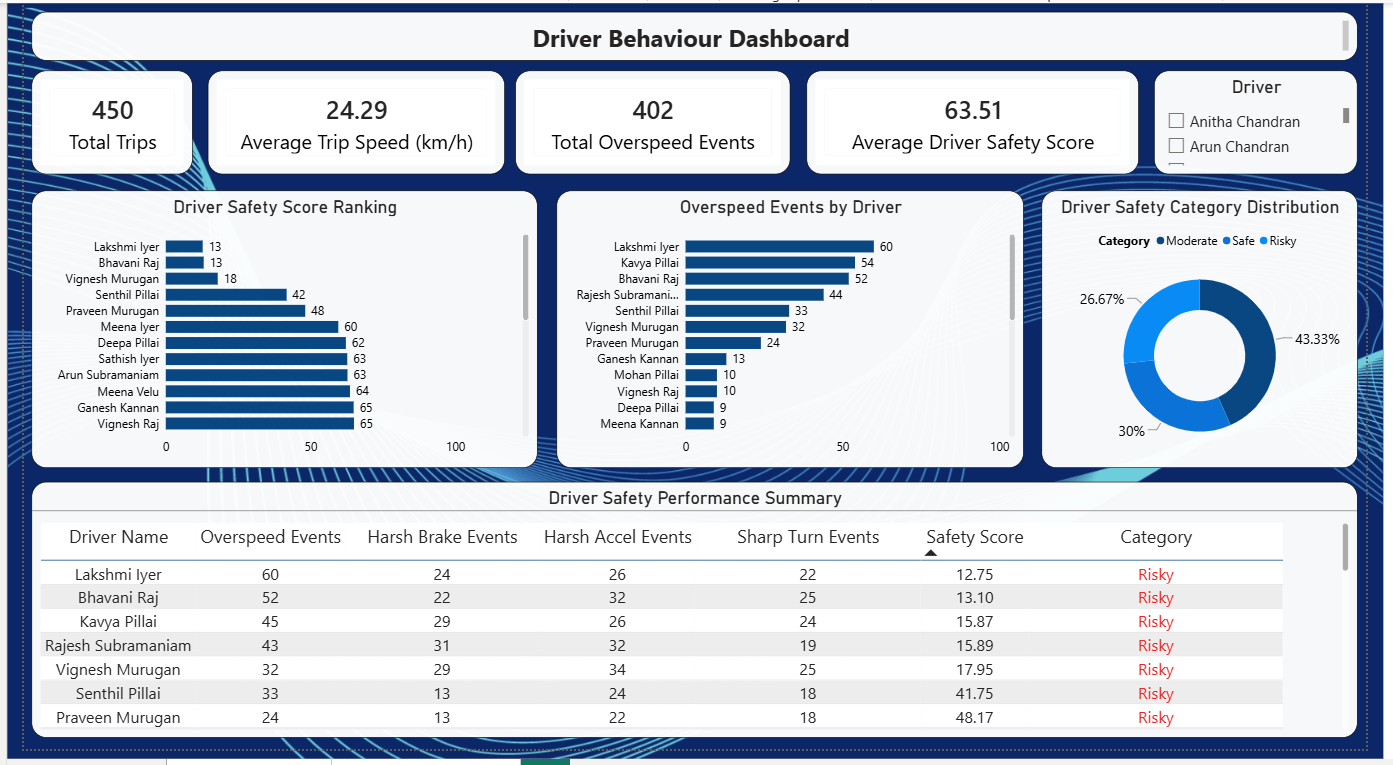

Layout of this report page (visuals, bound fields, positions):
{"tool":"powerbi","page":{"name":"Driver Behaviour","canvas":[1800,1000],"ordinal":0},"visuals":[{"type":"cardVisual","title":"Total Trips","fields":{"Data":["Trips.Total Trips"]},"box":[10.1,90.5,216.2,139.1],"z":0},{"type":"cardVisual","fields":{"Data":["Driver_Summary_Final.Average Driver Risk"]},"box":[1048.9,90.5,445.7,139.1],"z":1000},{"type":"cardVisual","fields":{"Data":["Telemetry.Overspeed Events"]},"box":[658.5,90.5,368.6,139.1],"z":2000},{"type":"cardVisual","fields":{"Data":["Trips.Average Speed"]},"box":[246.3,90.5,398.8,139.1],"z":3000},{"type":"clusteredBarChart","title":"Driver Safety Score Ranking","fields":{"Y":["Sum(Driver_Summary_Final.Risk score)"],"Category":["Driver_Summary_Final.Driver Name"]},"box":[10.1,251.3,678.6,372],"z":4000},{"type":"clusteredBarChart","title":"Overspeed Events by Driver","fields":{"Y":["Sum(Driver_Summary_Final.Overspeed Events)"],"Category":["Driver_Summary_Final.Driver Name"]},"box":[713.8,251.3,626.7,372],"z":5000},{"type":"donutChart","title":"Driver Safety Category Distribution","fields":{"Category":["Driver_Summary_Final.Category"],"Y":["CountNonNull(Driver_Summary_Final.Driver ID)"]},"box":[1363.9,251.3,423.9,372],"z":6000},{"type":"tableEx","title":"Driver Safety Performance Summary","fields":{"Values":["Driver_Summary_Final.Driver Name","Driver_Summary_Final.Overspeed Events","Driver_Summary_Final.Harsh Brake Events","Driver_Summary_Final.Harsh Accel Events","Driver_Summary_Final.Sharp Turn Events","Sum(Driver_Summary_Final.Risk score)","Driver_Summary_Final.Category"]},"box":[10.1,641.8,1777.8,343.5],"z":7000},{"type":"slicer","title":"Driver","fields":{"Values":["Driver_Summary_Final.Driver Name"]},"box":[1514.8,90.5,273.1,139.1],"z":8000},{"type":"textbox","box":[10.1,11.7,1777.8,65.3],"z":9000}]}

Visuals, with their boxes in screenshot pixels (x1, y1, x2, y2), scaled from the page's 1800x1000 canvas onto the 1393x765 screenshot:
"Total Trips" cardVisual: [x1=8, y1=69, x2=175, y2=176]
cardVisual - Driver_Summary_Final.Average Driver Risk: [x1=812, y1=69, x2=1157, y2=176]
cardVisual - Telemetry.Overspeed Events: [x1=510, y1=69, x2=795, y2=176]
cardVisual - Trips.Average Speed: [x1=191, y1=69, x2=499, y2=176]
"Driver Safety Score Ranking" clusteredBarChart: [x1=8, y1=192, x2=533, y2=477]
"Overspeed Events by Driver" clusteredBarChart: [x1=552, y1=192, x2=1037, y2=477]
"Driver Safety Category Distribution" donutChart: [x1=1056, y1=192, x2=1384, y2=477]
"Driver Safety Performance Summary" tableEx: [x1=8, y1=491, x2=1384, y2=754]
"Driver" slicer: [x1=1172, y1=69, x2=1384, y2=176]
textbox: [x1=8, y1=9, x2=1384, y2=59]
